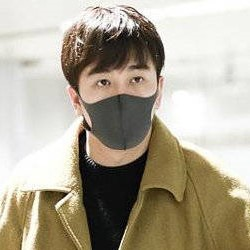mask: (79, 90, 157, 153)
